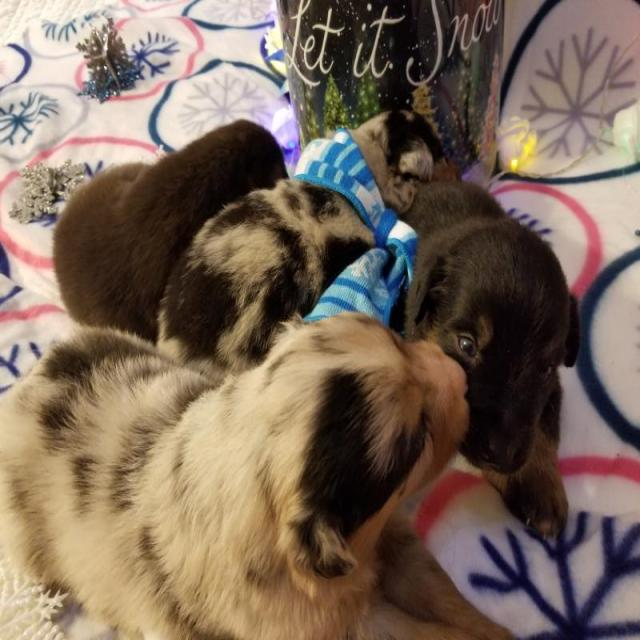dog: (223, 119, 568, 564)
